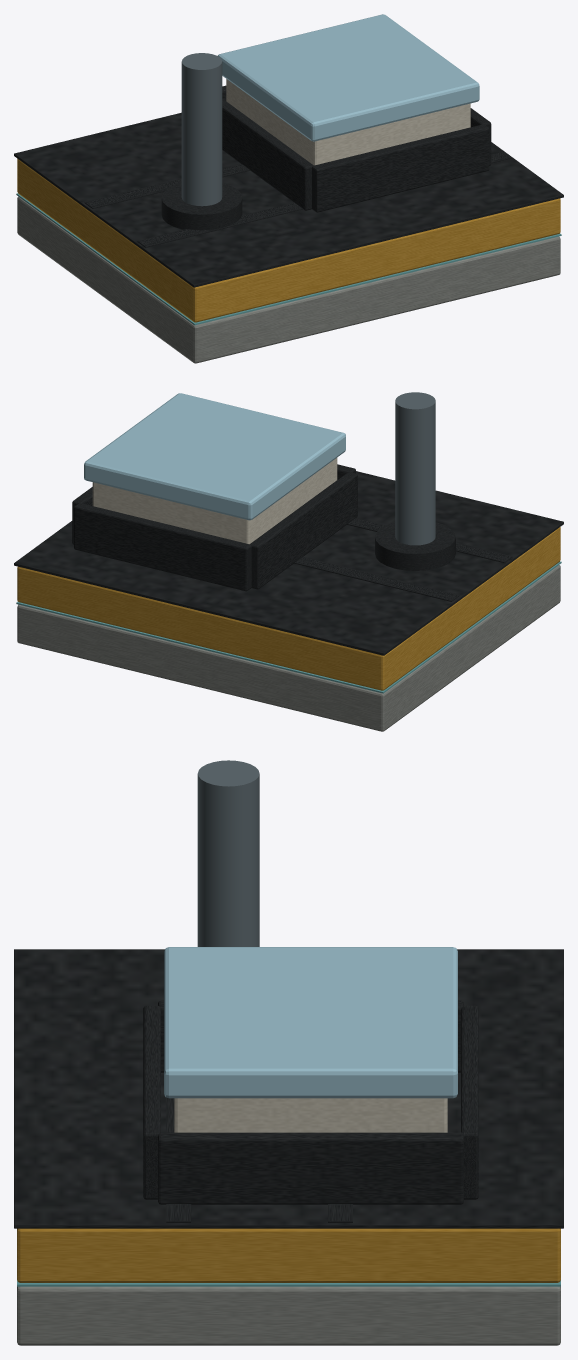
File: modell.glb
The picture shows the model from 3 angles, top to bottom: view 1: azimuth 30°, elevation 25°; view 2: azimuth 150°, elevation 25°; view 3: azimuth 270°, elevation 25°; orthographic projection. The views are drawn at different scales.
Parts seen in each view (by area): view 1: f08-abdichtung_deckung, f08-untergrund_tragwerk, f08-lichtkuppel_.001, f08-daemmung_daemmung, f08-anschluss_deckung.001, f08-rohr_, f08-lichtkuppel_, f08-anschluss_deckung, f08-naht_deckung, f08-luftdichtheit_luftdichtheit; view 2: f08-abdichtung_deckung, f08-untergrund_tragwerk, f08-lichtkuppel_.001, f08-daemmung_daemmung, f08-anschluss_deckung.001, f08-rohr_, f08-lichtkuppel_, f08-anschluss_deckung, f08-naht_deckung, f08-luftdichtheit_luftdichtheit; view 3: f08-abdichtung_deckung, f08-lichtkuppel_.001, f08-untergrund_tragwerk, f08-daemmung_daemmung, f08-anschluss_deckung.001, f08-rohr_, f08-lichtkuppel_, f08-luftdichtheit_luftdichtheit, f08-naht_deckung.
Part boxes in pixels (x1,y1,x2,y2): f08-abdichtung_deckung: (14,112,563,287); f08-untergrund_tragwerk: (17,196,560,363); f08-lichtkuppel_.001: (217,14,479,141); f08-daemmung_daemmung: (17,158,560,322); f08-anschluss_deckung.001: (222,85,491,212); f08-rohr_: (181,53,222,206); f08-lichtkuppel_: (226,79,470,165); f08-anschluss_deckung: (161,183,242,230); f08-naht_deckung: (84,151,512,247); f08-luftdichtheit_luftdichtheit: (16,193,561,325); f08-abdichtung_deckung: (14,471,563,655); f08-untergrund_tragwerk: (17,565,560,731); f08-lichtkuppel_.001: (84,393,345,520); f08-daemmung_daemmung: (17,527,560,690); f08-anschluss_deckung.001: (72,464,357,591); f08-rohr_: (395,392,435,545); f08-lichtkuppel_: (92,458,337,544); f08-anschluss_deckung: (375,522,455,570); f08-naht_deckung: (294,518,512,601); f08-luftdichtheit_luftdichtheit: (16,561,561,693); f08-abdichtung_deckung: (14,949,563,1228); f08-lichtkuppel_.001: (164,947,457,1098); f08-untergrund_tragwerk: (17,1286,560,1345); f08-daemmung_daemmung: (17,1228,560,1282); f08-anschluss_deckung.001: (143,1000,478,1204); f08-rohr_: (197,760,259,946); f08-lichtkuppel_: (174,1098,447,1132); f08-luftdichtheit_luftdichtheit: (17,1280,560,1286); f08-naht_deckung: (166,1097,352,1222).
Bounding box in the file's own units: 2.22 × 1.34 × 1.87.
Materials: 7 (4 with a texture image).
